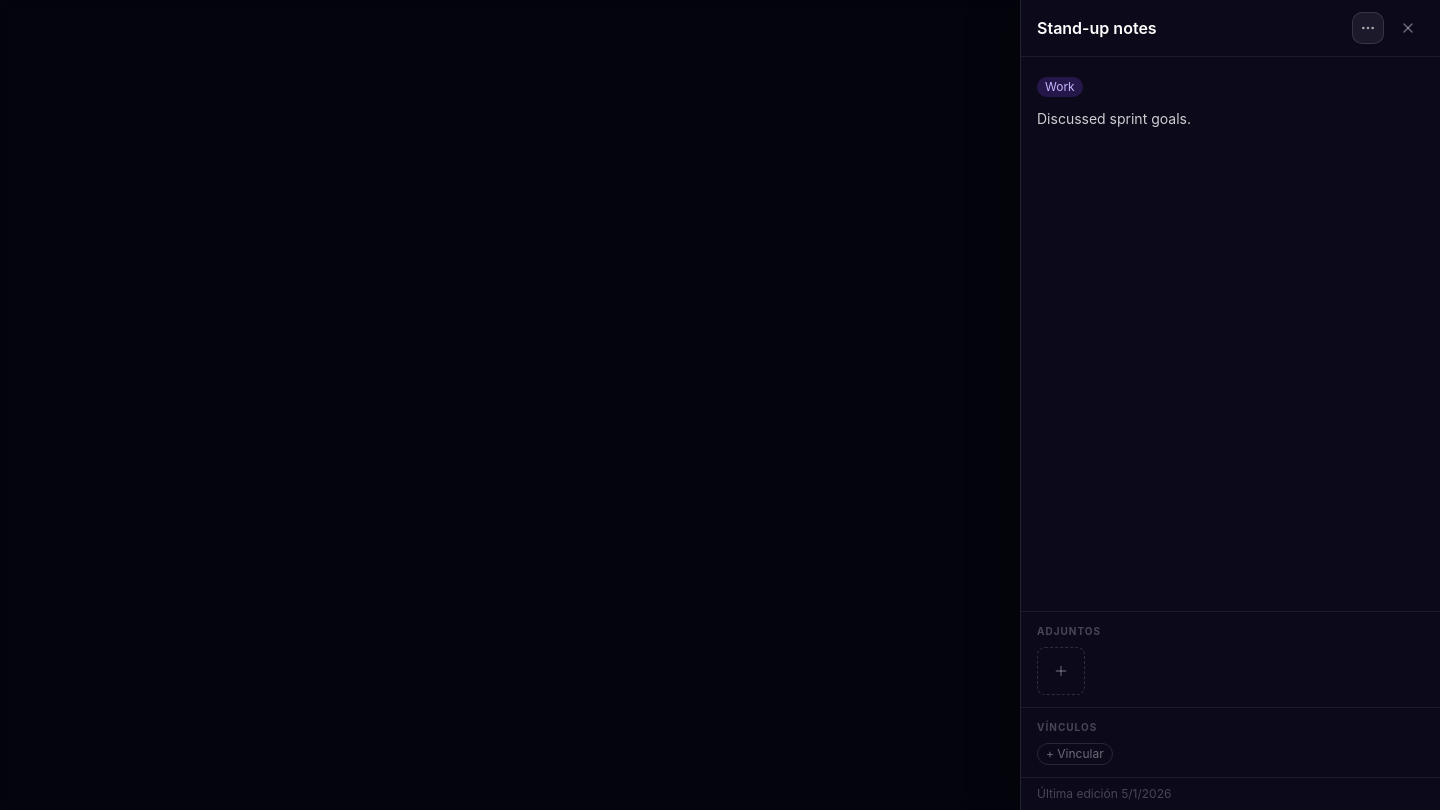
Test: NoteSheet › switches to edit mode when Editar DotMenu item is clicked
The width and height of the screenshot is (1440, 810).
Click the button named "open menu": (1368, 28) [1352, 12, 1384, 44]
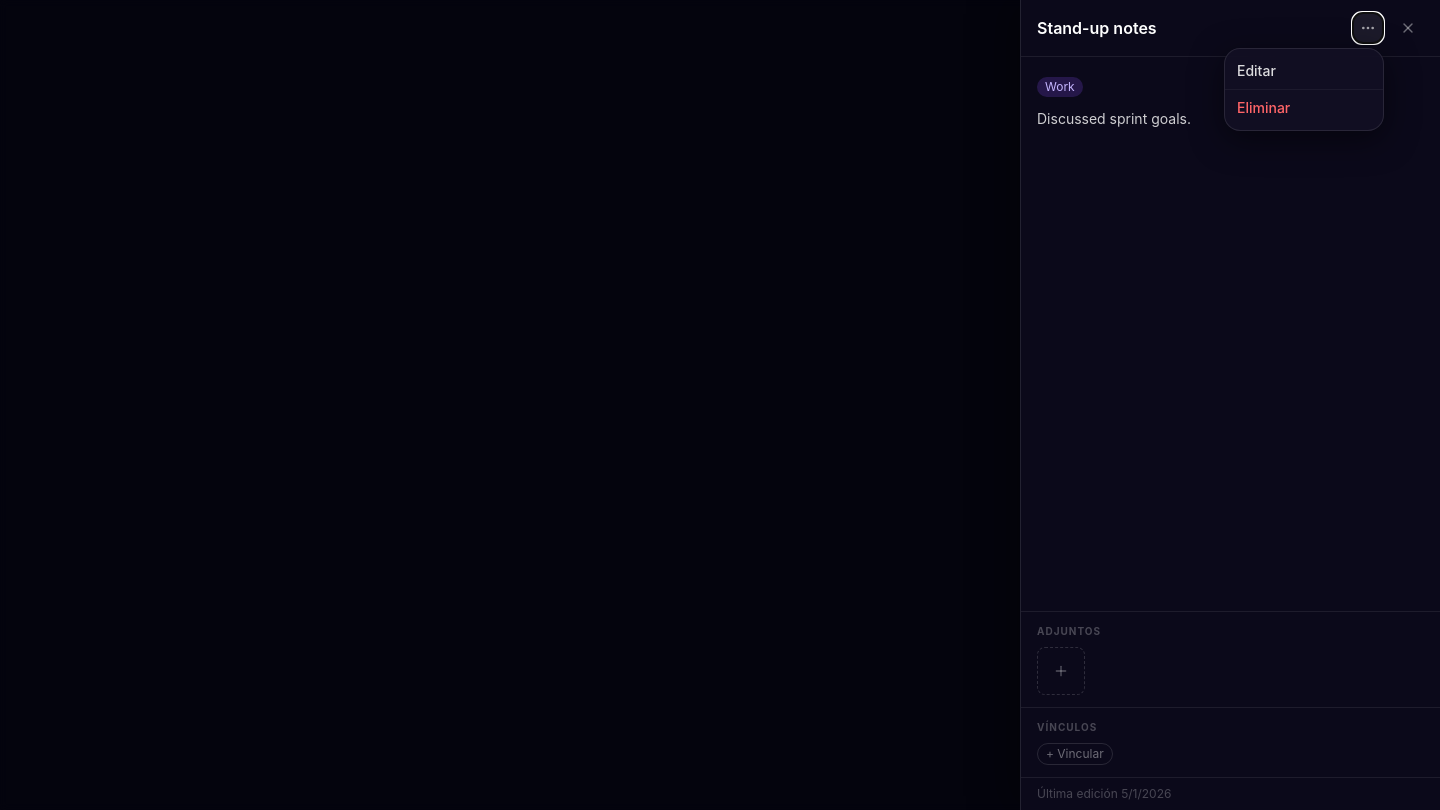
Click the menu item "Editar": (1304, 71) [1225, 53, 1383, 89]
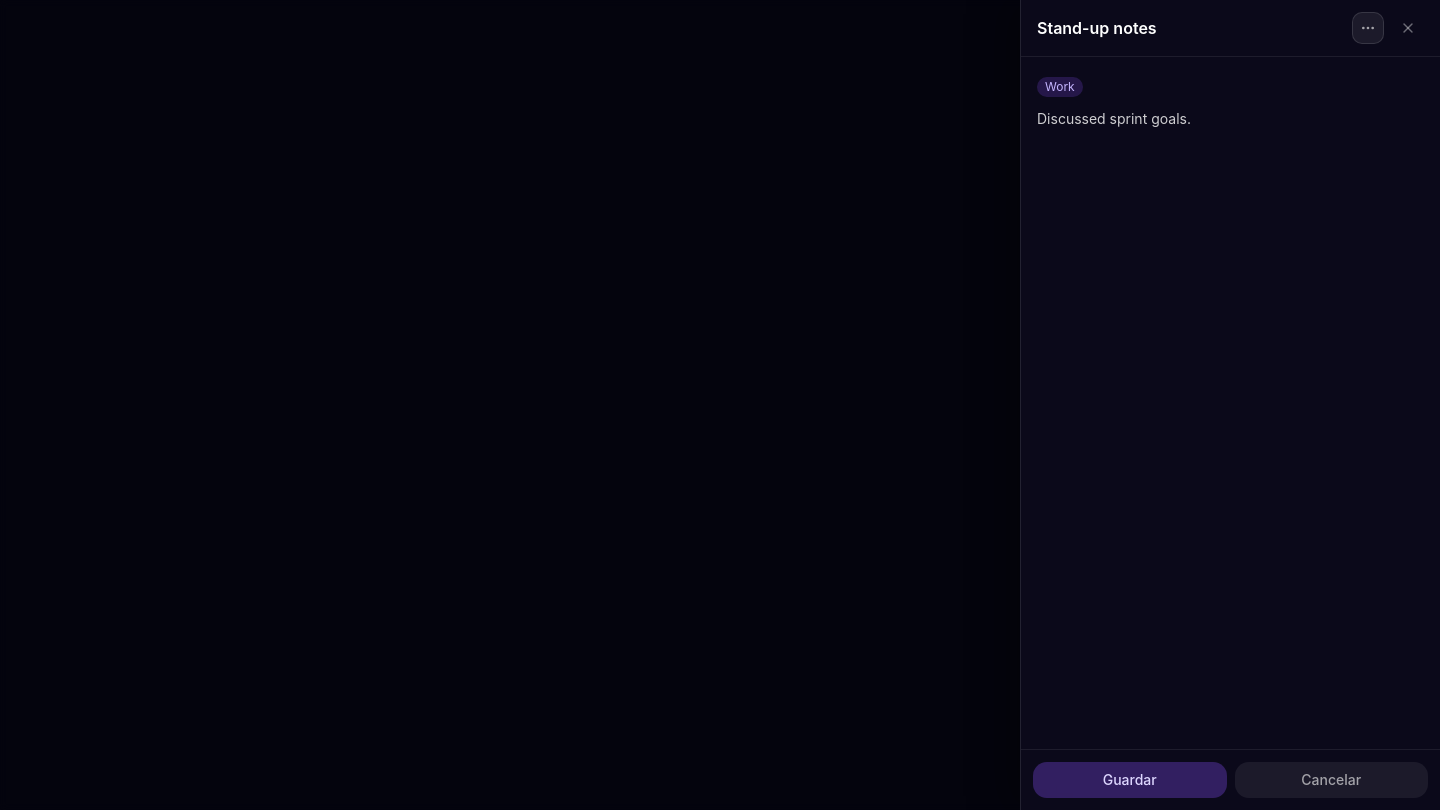
Check: the field named "title" is shown, box [1037, 16, 1352, 40]
